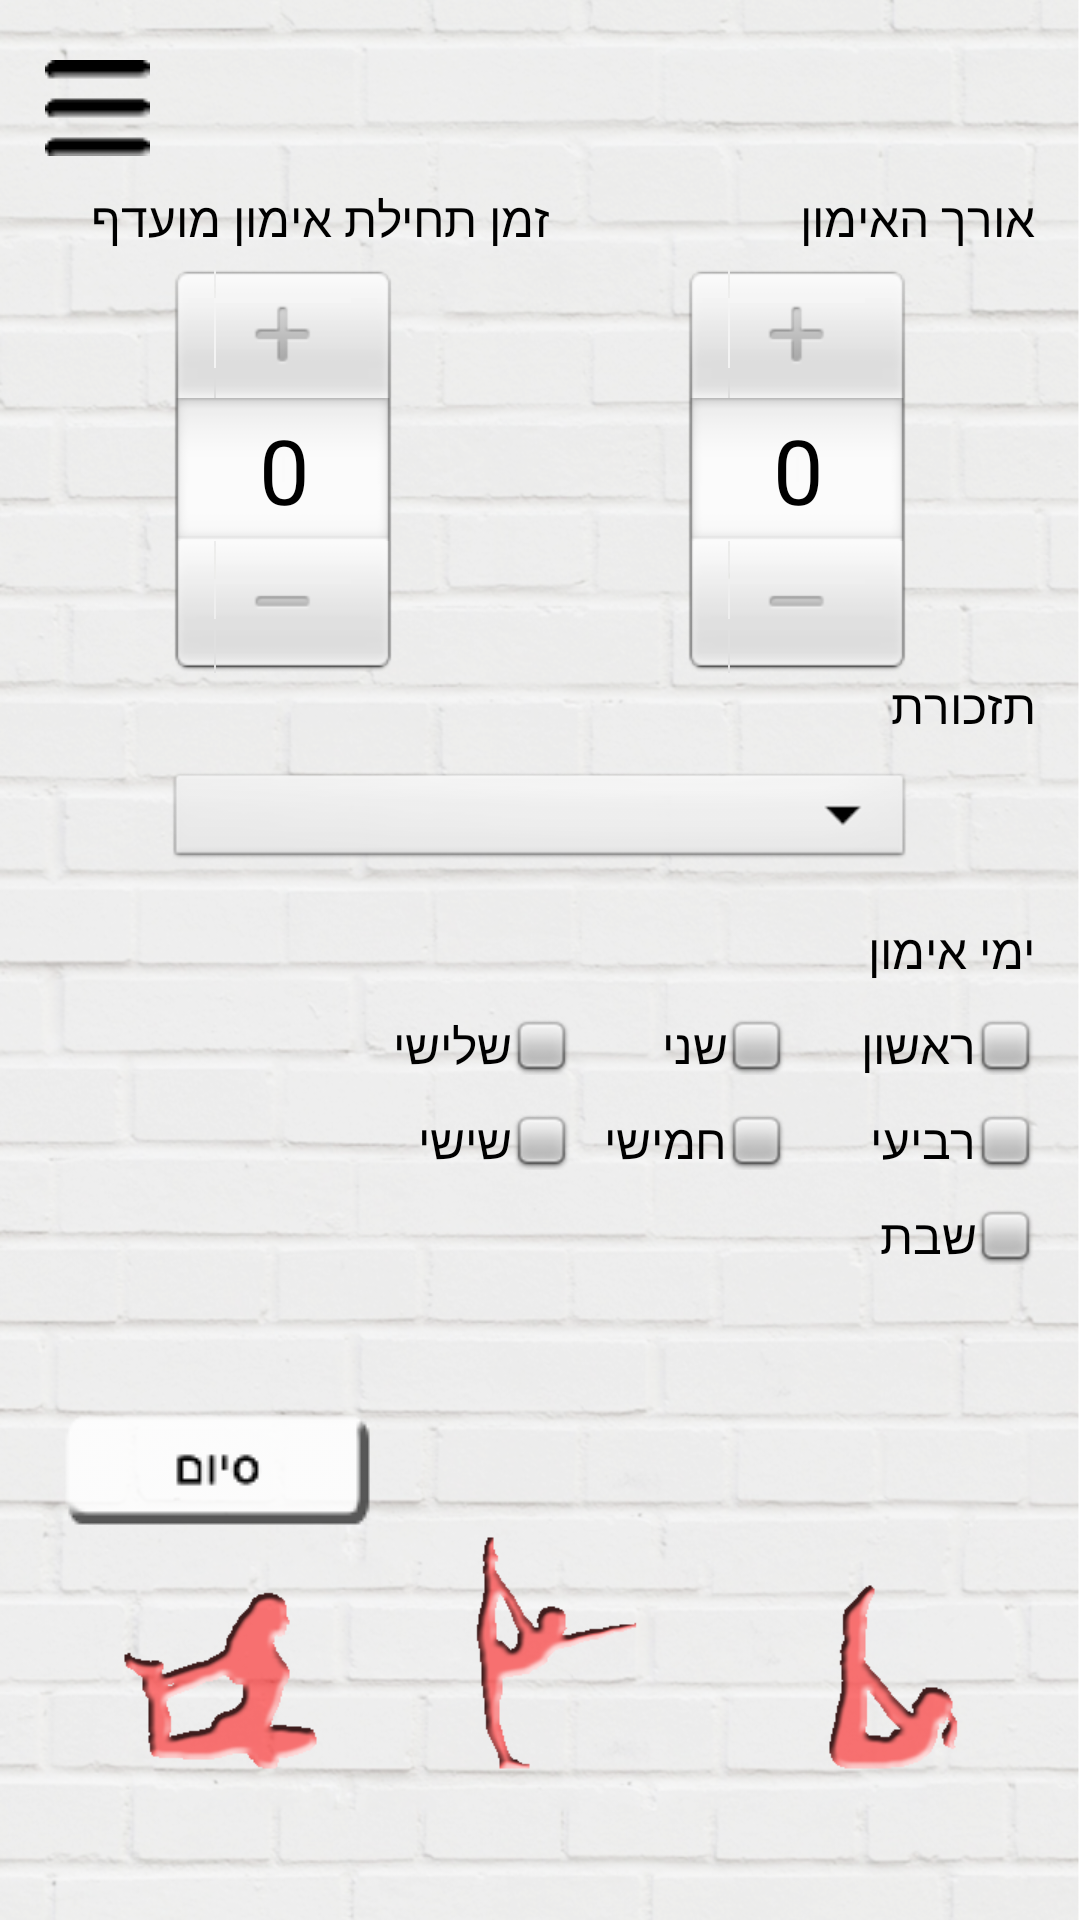

Icons on this 1080w x 1920h Android screen, each with the point to tap as point (x, y):
תפריט: point (97, 108)
